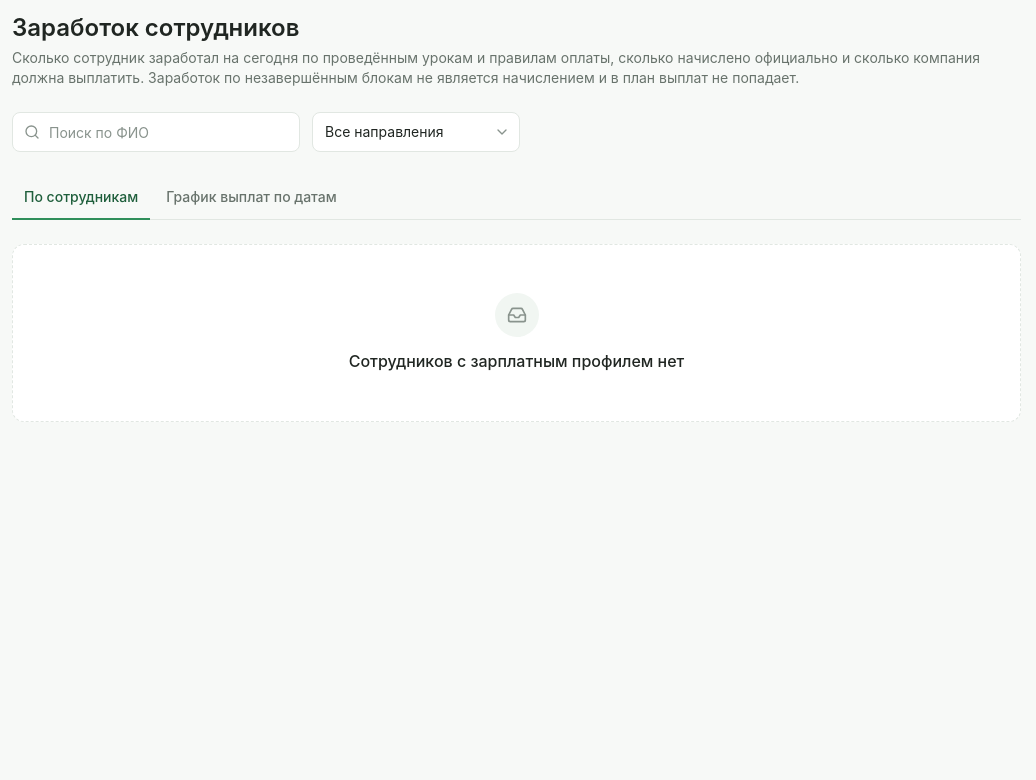
Test: EarningsPage — график выплат по датам › shows who must be paid on each date with totals and open work separately
The width and height of the screenshot is (1036, 780).
Click the tab "График выплат по датам" at {"x": 251, "y": 198}, box [154,176,349,220]
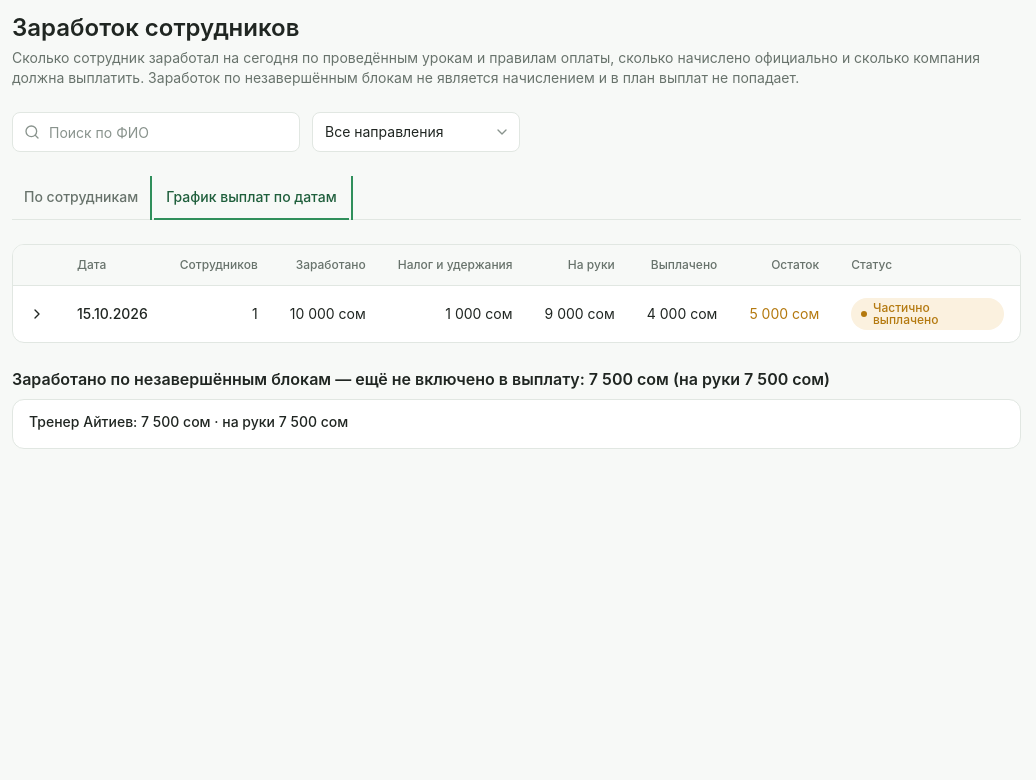
Result: the text "15.10.2026" shows "10 000 сом" at [290,305,366,322]
Result: the text "15.10.2026" shows "1 000 сом" at [445,305,513,322]
Result: the text "15.10.2026" shows "9 000 сом" at [544,305,615,322]
Click the text "15.10.2026" at {"x": 112, "y": 314}, box [13,286,1020,342]
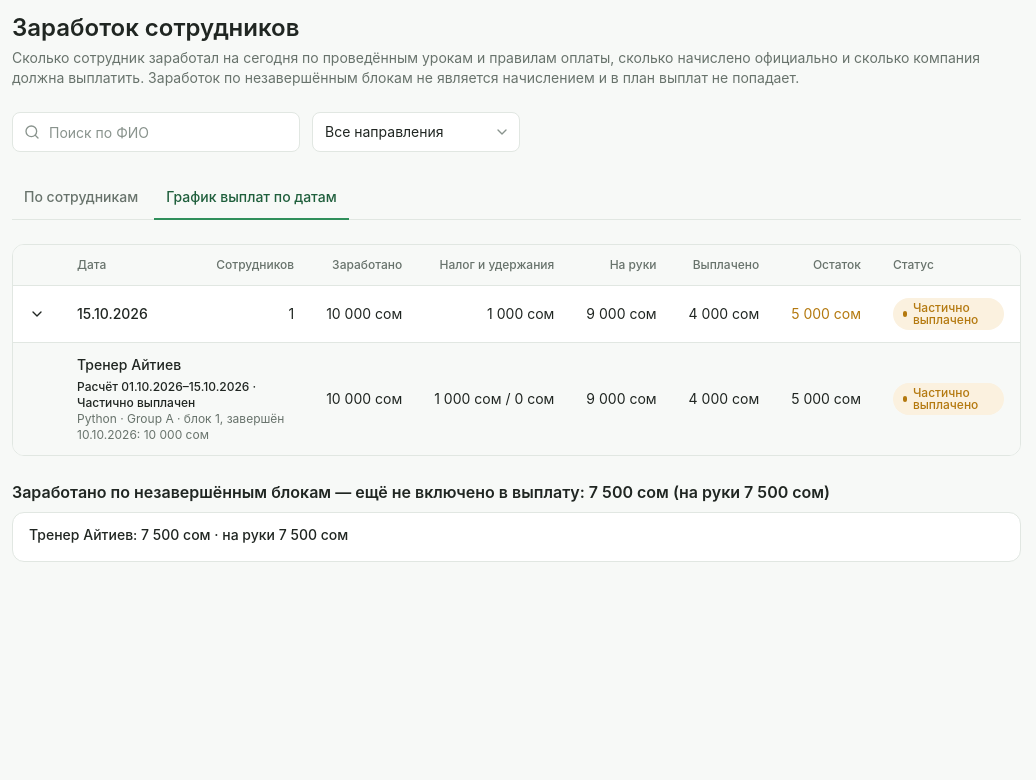
Result: the 2nd heading is shown at [12,482,830,502]
Result: the text "Тренер Айтиев" is shown at [77,356,181,373]
Result: the list item "Python · Group A · блок 1, завершён 10.10.2026: 10 000 сом" is shown at [77,411,294,443]
